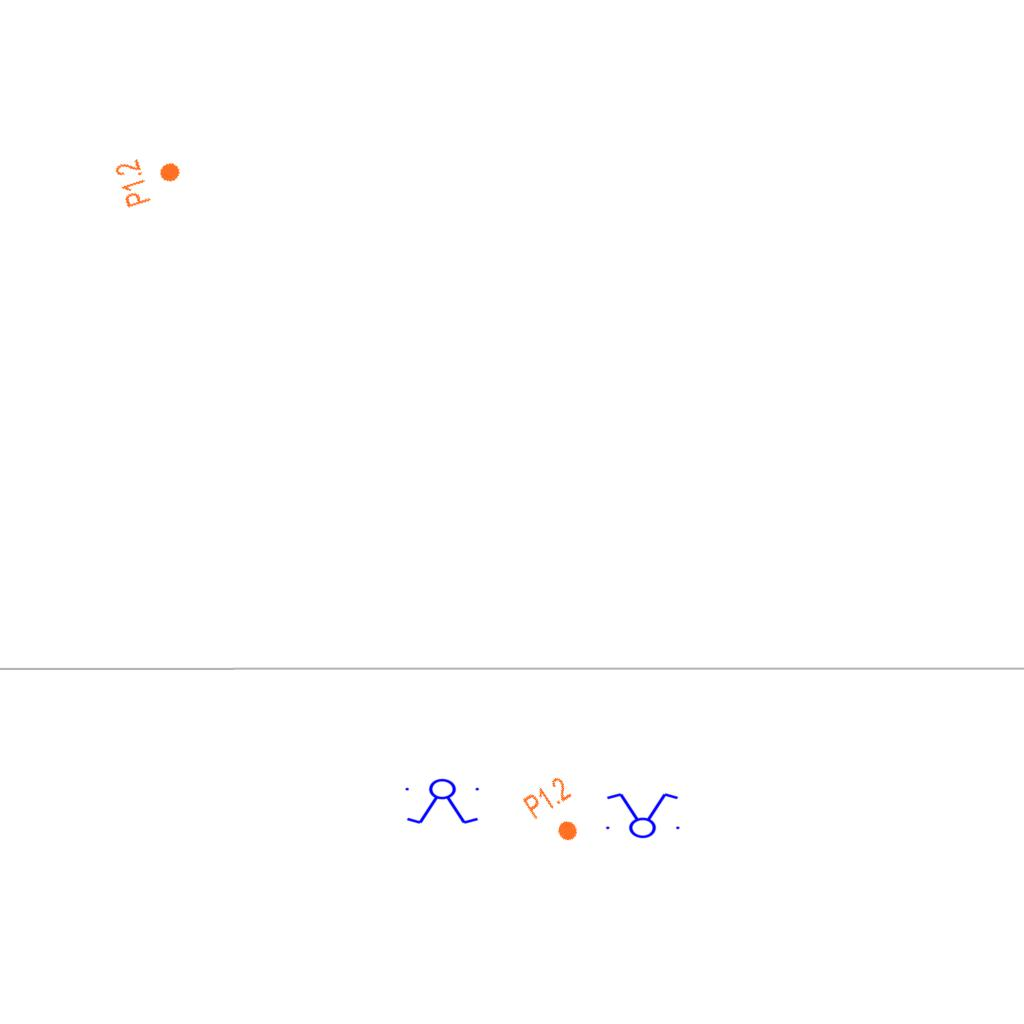Downlight_LED_Einbauleuchten_Flur: (520, 773, 594, 853), (112, 146, 188, 210)
Serienschalter: (401, 778, 485, 826), (600, 791, 684, 839)
